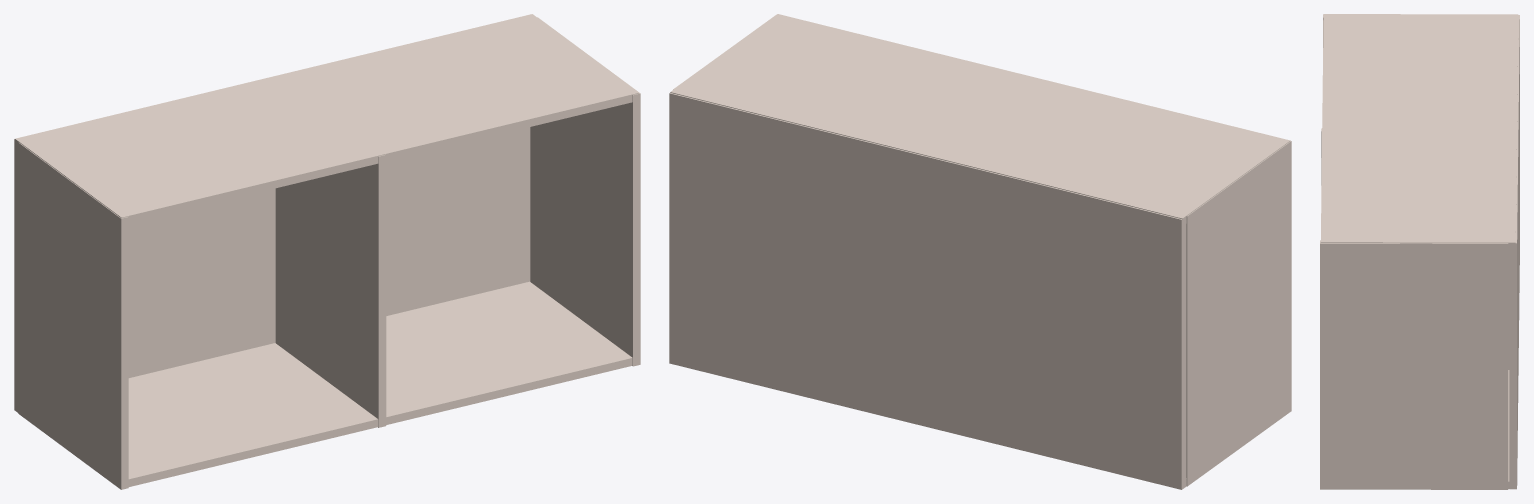
The model's file is Shelf_16.fbx.
The picture shows the model from 3 angles, left to right: view 1: azimuth 30°, elevation 25°; view 2: azimuth 150°, elevation 25°; view 3: azimuth 270°, elevation 25°; orthographic projection. The views are drawn at different scales.
Visible parts, largest first — view 1: Shelf_16; view 2: Shelf_16; view 3: Shelf_16.
Part boxes in pixels (x1,y1,x2,y2): Shelf_16: [14, 14, 640, 489]; Shelf_16: [669, 14, 1291, 489]; Shelf_16: [1320, 14, 1519, 489].
Bounding box in the file's own units: 220 × 80.86 × 110.
